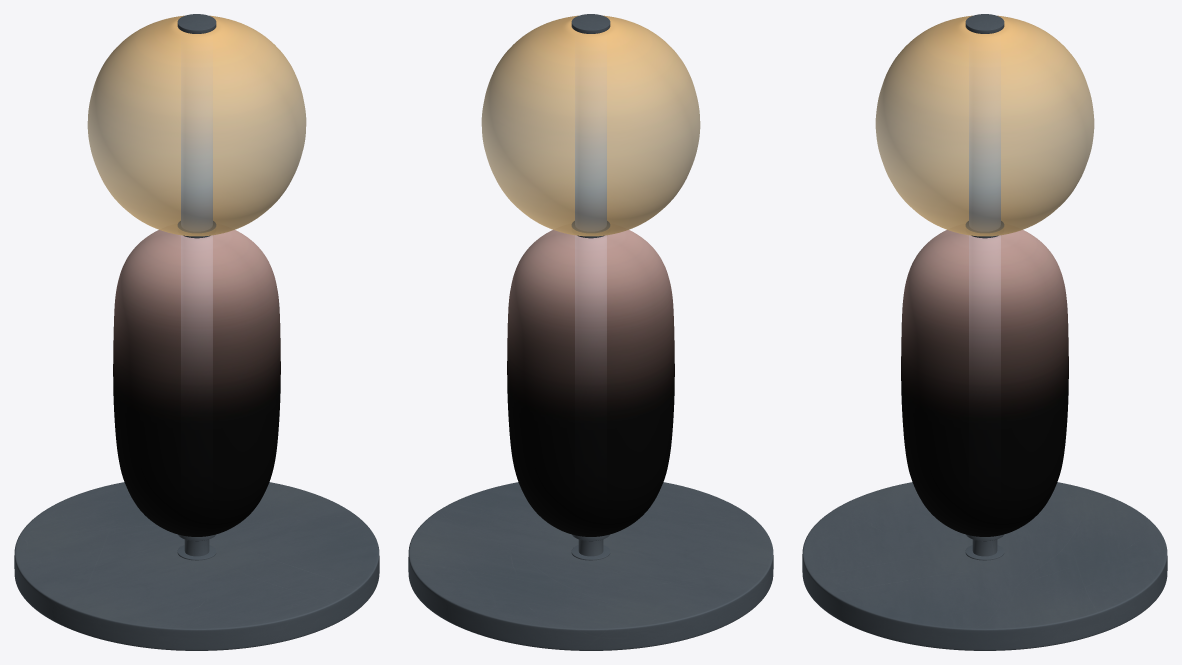
Rendered from table-lamp-2-heads-50cm.glb.
The picture shows the model from 3 angles, left to right: view 1: azimuth 30°, elevation 25°; view 2: azimuth 150°, elevation 25°; view 3: azimuth 270°, elevation 25°; orthographic projection.
Visible parts, largest first — view 1: Combined_Mesh.001, Combined_Mesh.002; view 2: Combined_Mesh.001, Combined_Mesh.002; view 3: Combined_Mesh.001, Combined_Mesh.002.
Part boxes in pixels (x1,y1,x2,y2): Combined_Mesh.001: (87,15,306,536); Combined_Mesh.002: (14,14,379,650); Combined_Mesh.001: (481,15,700,536); Combined_Mesh.002: (408,14,773,650); Combined_Mesh.001: (875,15,1094,536); Combined_Mesh.002: (802,14,1167,650).
Size of the model in its own units: 0.2995 by 0.5 by 0.2995.
Materials: 3 (3 with a texture image).
